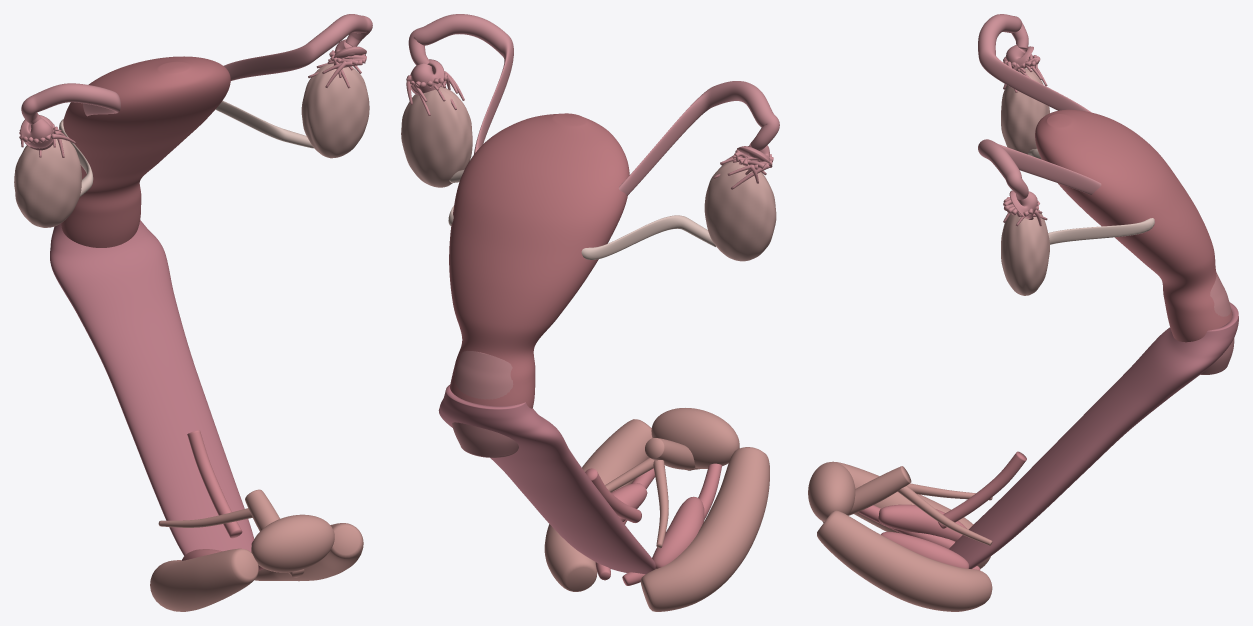
The model's file is reproductive-female-v3.glb.
3 views of the same model, side by side, from view 1: azimuth 30°, elevation 25°; view 2: azimuth 150°, elevation 25°; view 3: azimuth 270°, elevation 25° (orthographic). The views are drawn at different scales.
Parts seen in each view (by area): view 1: Vagina, Uterus, Ovary.l, Labium majus.r, Ovary.r, Uterine tube.l, Mons pubis, Uterine tube.r, Labium majus.l, Clitoris, Female urethra, Ovarian ligament.l; view 2: Uterus, Vagina, Labium majus.r, Ovary.l, Ovary.r, Uterine tube.r, Uterine tube.l, Labium majus.l, Cervix, Mons pubis, Clitoris, Vestibular bulb.r (+4 smaller); view 3: Uterus, Vagina, Labium majus.l, Uterine tube.r, Uterine tube.l, Ovary.l, Clitoris, Ovary.r, Mons pubis, Vestibular bulb.r, Female urethra, Ovarian ligament.l (+4 smaller).
Boxes of the visible parts, x1=… form: Vagina: x1=50, y1=220, x2=254, y2=555; Uterus: x1=61, y1=56, x2=230, y2=247; Ovary.l: x1=301, y1=63, x2=369, y2=158; Labium majus.r: x1=150, y1=548, x2=258, y2=611; Ovary.r: x1=14, y1=139, x2=81, y2=227; Uterine tube.l: x1=224, y1=14, x2=372, y2=88; Mons pubis: x1=251, y1=514, x2=334, y2=572; Uterine tube.r: x1=19, y1=83, x2=120, y2=157; Labium majus.l: x1=254, y1=523, x2=363, y2=581; Clitoris: x1=158, y1=489, x2=304, y2=577; Female urethra: x1=187, y1=430, x2=242, y2=538; Ovarian ligament.l: x1=215, y1=100, x2=313, y2=148; Uterus: x1=449, y1=113, x2=629, y2=408; Vagina: x1=438, y1=384, x2=655, y2=574; Labium majus.r: x1=640, y1=447, x2=769, y2=611; Ovary.l: x1=401, y1=86, x2=472, y2=187; Ovary.r: x1=704, y1=161, x2=776, y2=261; Uterine tube.r: x1=618, y1=81, x2=779, y2=195; Uterine tube.l: x1=406, y1=14, x2=513, y2=154; Labium majus.l: x1=544, y1=419, x2=652, y2=591; Cervix: x1=452, y1=351, x2=518, y2=457; Mons pubis: x1=651, y1=408, x2=739, y2=468; Clitoris: x1=605, y1=438, x2=700, y2=548; Vestibular bulb.r: x1=652, y1=496, x2=704, y2=568; Uterus: x1=1035, y1=109, x2=1232, y2=342; Vagina: x1=949, y1=302, x2=1238, y2=568; Labium majus.l: x1=817, y1=510, x2=992, y2=611; Uterine tube.r: x1=978, y1=14, x2=1091, y2=112; Uterine tube.l: x1=978, y1=139, x2=1101, y2=226; Ovary.l: x1=1001, y1=209, x2=1049, y2=295; Clitoris: x1=822, y1=466, x2=992, y2=545; Ovary.r: x1=1001, y1=68, x2=1049, y2=154; Mons pubis: x1=808, y1=462, x2=855, y2=521; Vestibular bulb.r: x1=878, y1=504, x2=966, y2=541; Female urethra: x1=938, y1=451, x2=1026, y2=528; Ovarian ligament.l: x1=1048, y1=218, x2=1154, y2=244.
Size of the model in its own units: 0.1142 by 0.1645 by 0.127.
